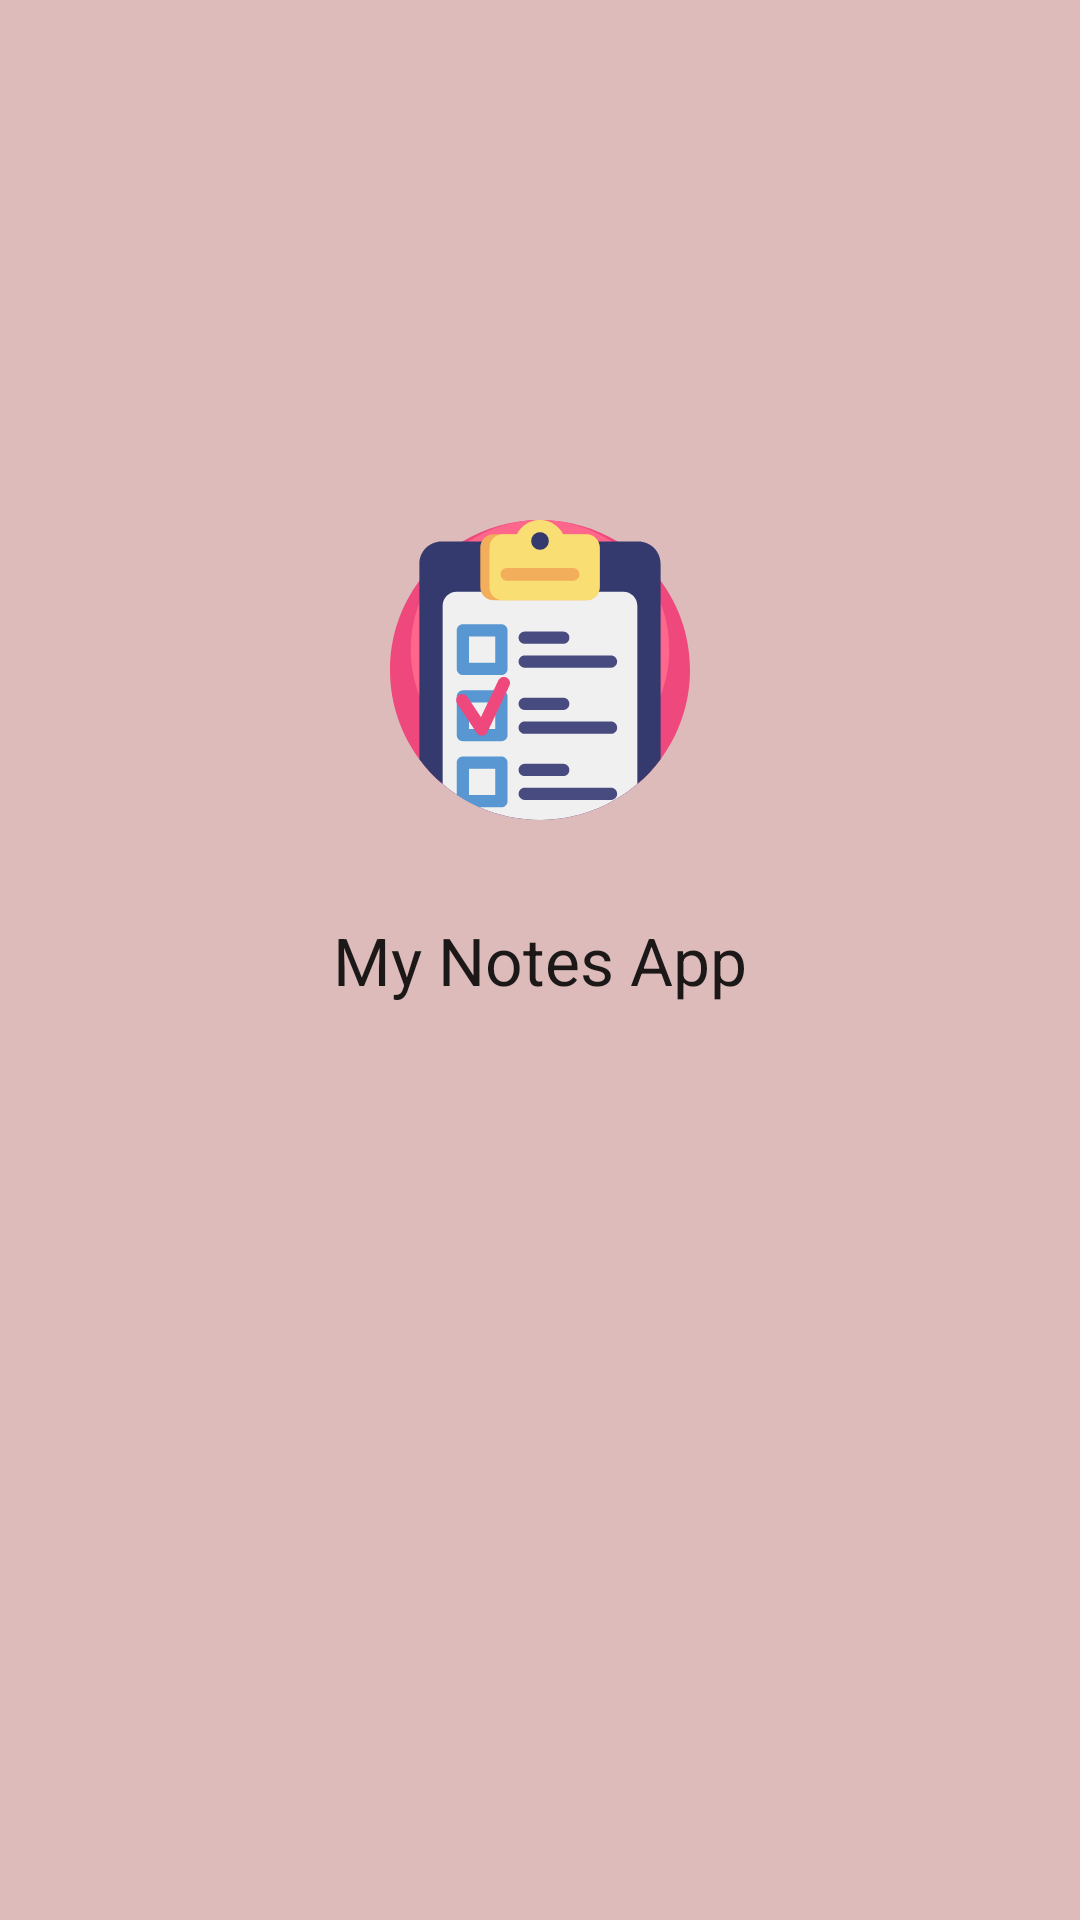

Point at icon controls on the screen. Image size 1080px×1920px, points as (x,y).
checklist: (540,670)
